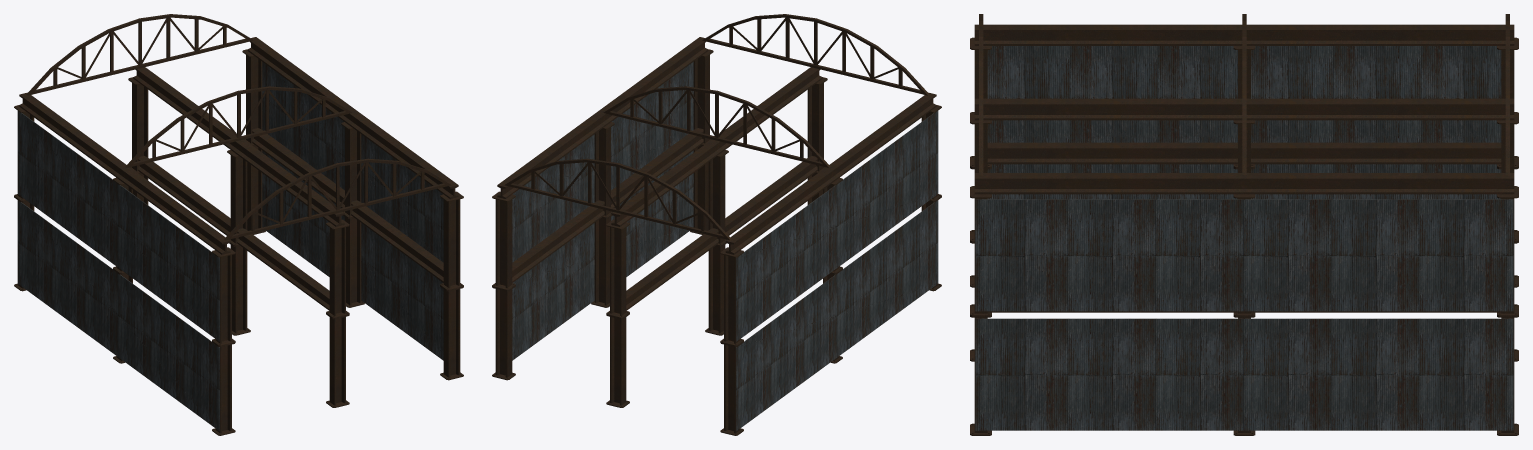
File: warehouse_hl_1_middle.glb
3 views of the same model, side by side, from view 1: azimuth 30°, elevation 25°; view 2: azimuth 150°, elevation 25°; view 3: azimuth 270°, elevation 25° (orthographic). The views are drawn at different scales.
Parts seen in each view (by area): view 1: warehouse_hl_1_middle; view 2: warehouse_hl_1_middle; view 3: warehouse_hl_1_middle.
Boxes of the visible parts, x1=… form: warehouse_hl_1_middle: x1=14, y1=14, x2=463, y2=435; warehouse_hl_1_middle: x1=492, y1=14, x2=941, y2=435; warehouse_hl_1_middle: x1=970, y1=14, x2=1518, y2=435.
Size of the model in its own units: 8.6 by 8.02 by 12.5.
Materials: 2 (2 with a texture image).
